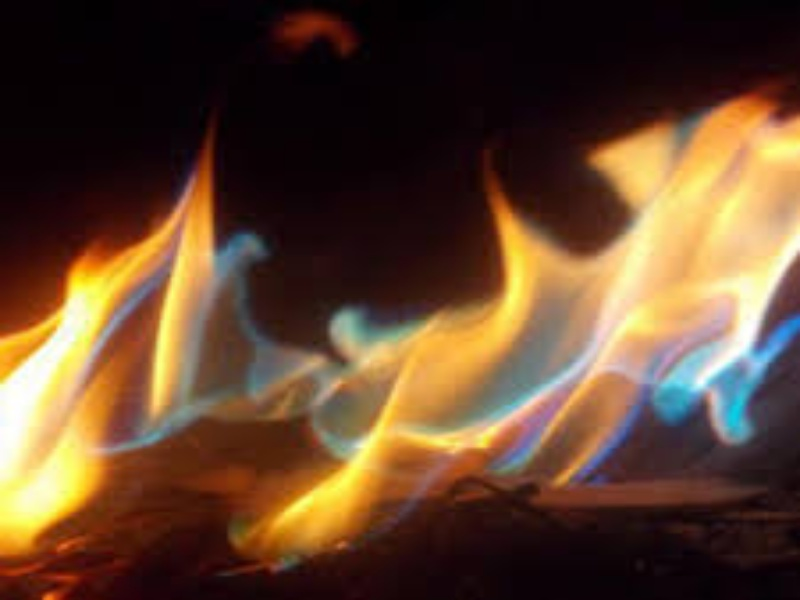fire: (1, 54, 800, 556)
